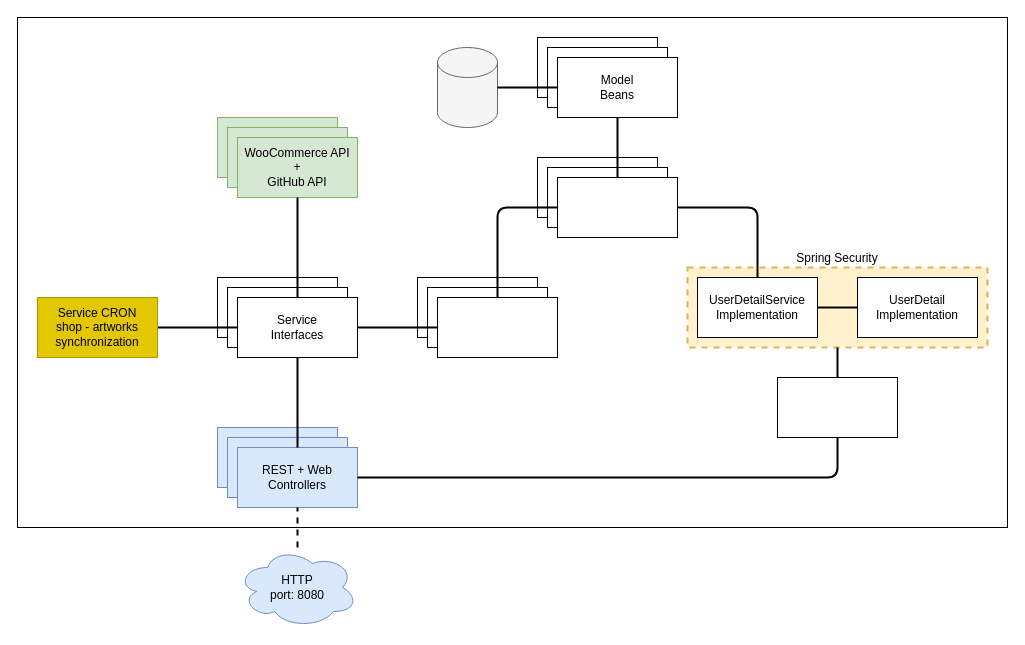
Image size: 1025x645. Some labels were removed from this diagram. The centre of each missing label's shape, as x and y in pixels:
DB: point (467, 87)
JPAs: point (617, 207)
JWT Token Utils: point (837, 407)
Service Implementations: point (497, 327)
